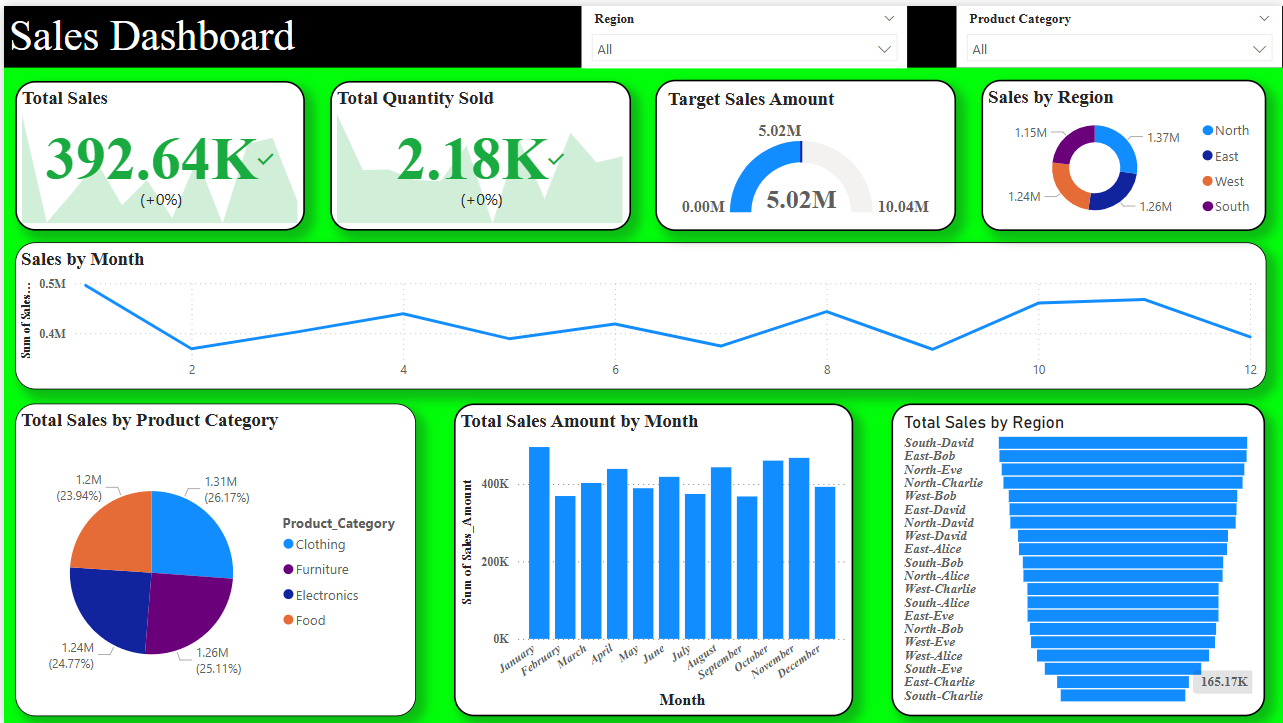

The page's visual inventory and layout, read from the dashboard file:
{"tool":"powerbi","page":{"name":"Page 1","canvas":[1280,720],"ordinal":0},"visuals":[{"type":"textbox","box":[0,0,1279,61.5],"z":0,"group":"g1"},{"type":"kpi","title":"Total Sales","fields":{"Indicator":["Sum(sales_data.Sales_Amount)"],"TrendLine":["sales_data.Month"],"Goal":["Sum(sales_data.Sales_Amount)"]},"box":[10.9,74.8,289.5,149.6],"z":1000,"group":"g1"},{"type":"kpi","title":"Total Quantity Sold","fields":{"Indicator":["Sum(sales_data.Quantity_Sold)"],"Goal":["Sum(sales_data.Quantity_Sold)"],"TrendLine":["sales_data.Month"]},"box":[325.7,74.8,300.4,149.6],"z":2000,"group":"g1"},{"type":"lineChart","title":"Sales by Month","fields":{"Category":["sales_data.Month"],"Y":["Sum(sales_data.Sales_Amount)"]},"box":[10.9,236.5,1251.1,147.2],"z":3000,"group":"g1"},{"type":"gauge","title":"Target Sales Amount","fields":{"Y":["Sum(sales_data.Sales_Amount)"],"TargetValue":["Sum(sales_data.Sales_Amount)"]},"box":[651.5,73.6,300.4,150.8],"z":4000,"group":"g1"},{"type":"donutChart","title":"Sales by Region","fields":{"Y":["Sum(sales_data.Sales_Amount)"],"Category":["sales_data.Region"]},"box":[977.2,73.6,284.7,150.8],"z":5000,"group":"g1"},{"type":"columnChart","title":"Total Sales Amount by Month","fields":{"Category":["sales_data.Sale_Date.Variation.Date Hierarchy.Month"],"Y":["Sum(sales_data.Sales_Amount)"]},"box":[450,396.9,399.3,312.5],"z":6000,"group":"g1"},{"type":"pieChart","title":"Total Sales by Product Category","fields":{"Category":["sales_data.Product_Category"],"Y":["Sum(sales_data.Sales_Amount)"]},"box":[10.9,396.9,400.5,312.5],"z":7000,"group":"g1"},{"type":"funnel","title":"Total Sales by Region","fields":{"Y":["Sum(sales_data.Sales_Amount)"],"Category":["sales_data.Region_and_Sales_Rep"]},"box":[887.9,396.9,374,312.5],"z":8000,"group":"g1"},{"type":"slicer","fields":{"Values":["sales_data.Product_Category"]},"box":[951.9,0,325.7,61.5],"z":9000,"group":"g1"},{"type":"slicer","fields":{"Values":["sales_data.Region"]},"box":[577.9,0,325.7,62.7],"z":9001,"group":"g1"},{"type":"group","id":"g1","title":"Group 1","box":[0,0,1279,709.4],"z":9002}]}

Visuals, with their boxes in screenshot pixels (x1, y1, x2, y2), scaled from the page's 1280x720 canvas onto the 1283x723 screenshot:
textbox: [0, 0, 1282, 62]
"Total Sales" kpi: [11, 75, 301, 225]
"Total Quantity Sold" kpi: [326, 75, 628, 225]
"Sales by Month" lineChart: [11, 237, 1265, 385]
"Target Sales Amount" gauge: [653, 74, 954, 225]
"Sales by Region" donutChart: [979, 74, 1265, 225]
"Total Sales Amount by Month" columnChart: [451, 399, 851, 712]
"Total Sales by Product Category" pieChart: [11, 399, 412, 712]
"Total Sales by Region" funnel: [890, 399, 1265, 712]
slicer - sales_data.Product_Category: [954, 0, 1281, 62]
slicer - sales_data.Region: [579, 0, 906, 63]
"Group 1" group: [0, 0, 1282, 712]
